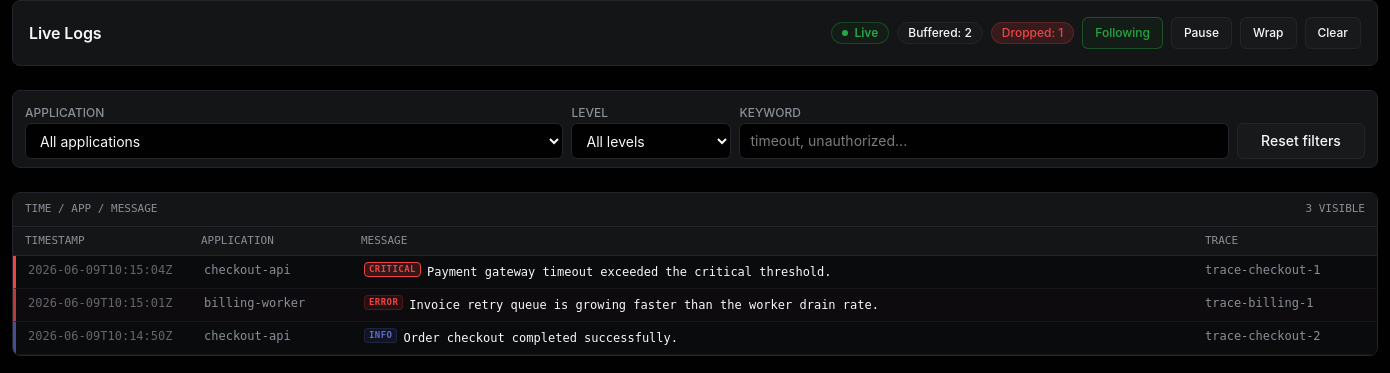
LiveLogsPage › renders a reset action for empty filter results
Expected: the text "Payment gateway timeout exceeded the critical threshold." is shown, [427,262,832,282]
Type "missing keyword" into the field labelled "Keyword" at (984, 141), box [740,123,1229,159]
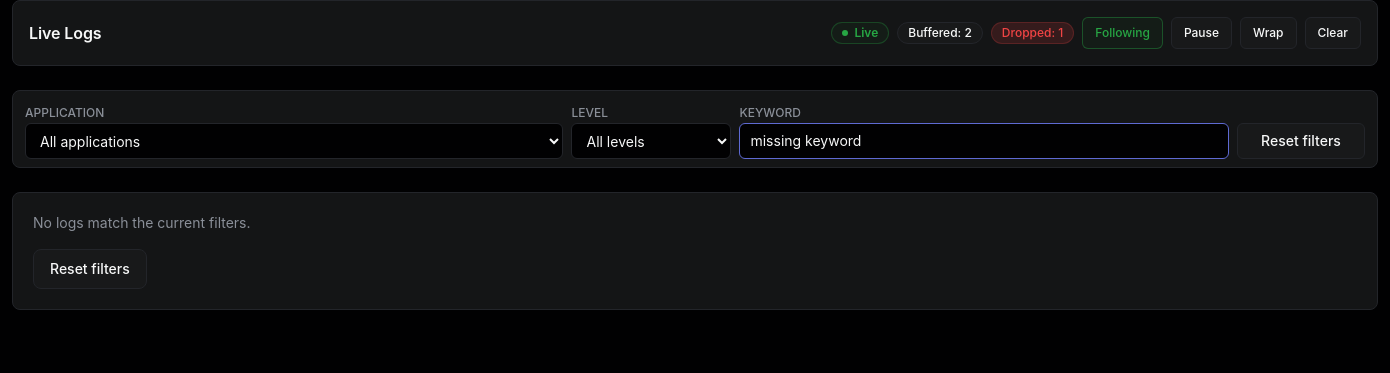
Expected: the number of buttons "Reset filters" is 2, [1237,123,1365,159]; [33,249,147,289]
Expected: the text "No logs match the current filters." is shown, [33,214,250,231]
